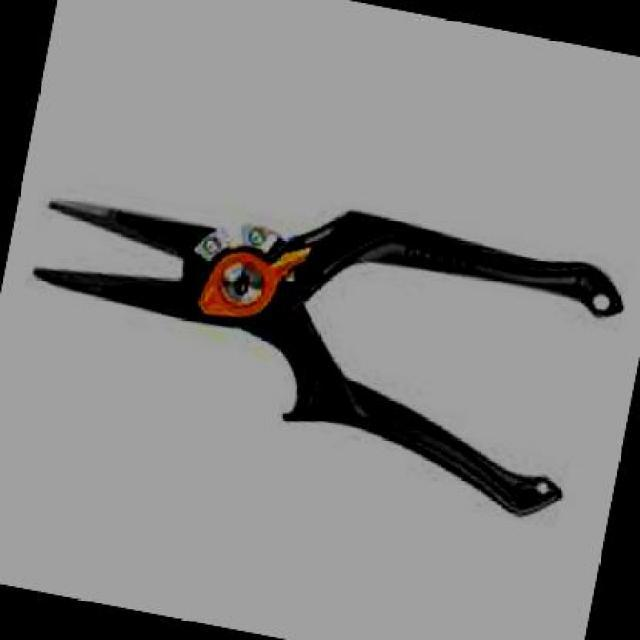pliers: (0, 115, 638, 538)
